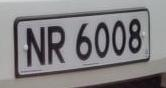0: (92, 17, 112, 64), (110, 16, 129, 62)
6: (73, 18, 95, 67)
8: (126, 14, 144, 60)
N: (22, 21, 46, 74)
R: (46, 20, 69, 72)
